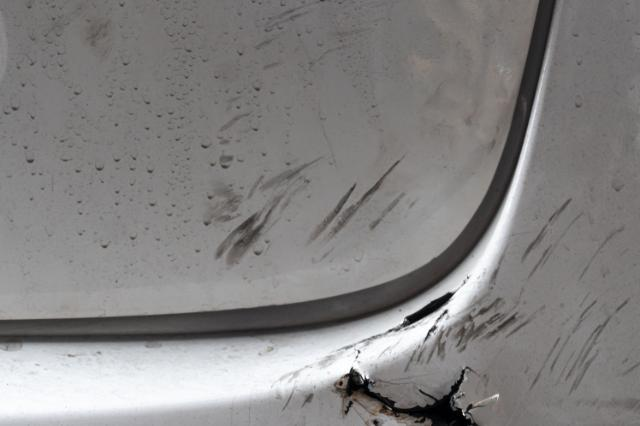Bumper: (0, 0, 640, 426)
Dickey: (0, 0, 547, 323)
